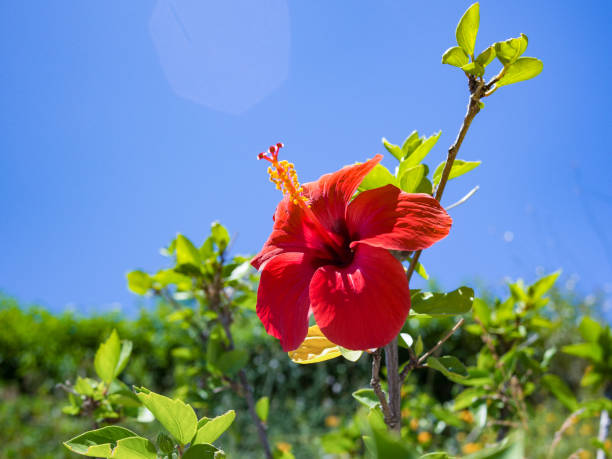Hibiscus: (239, 135, 453, 370)
